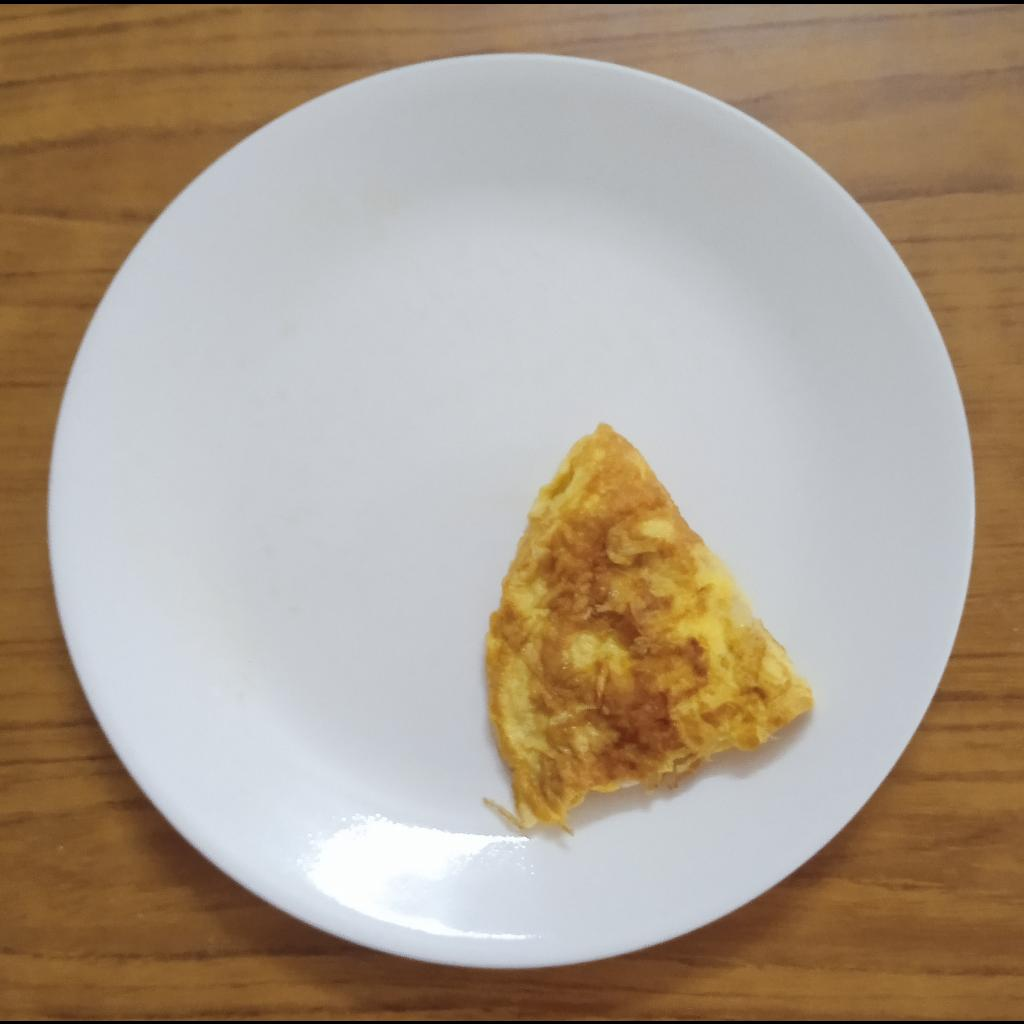egg-poached: (484, 418, 815, 834)
